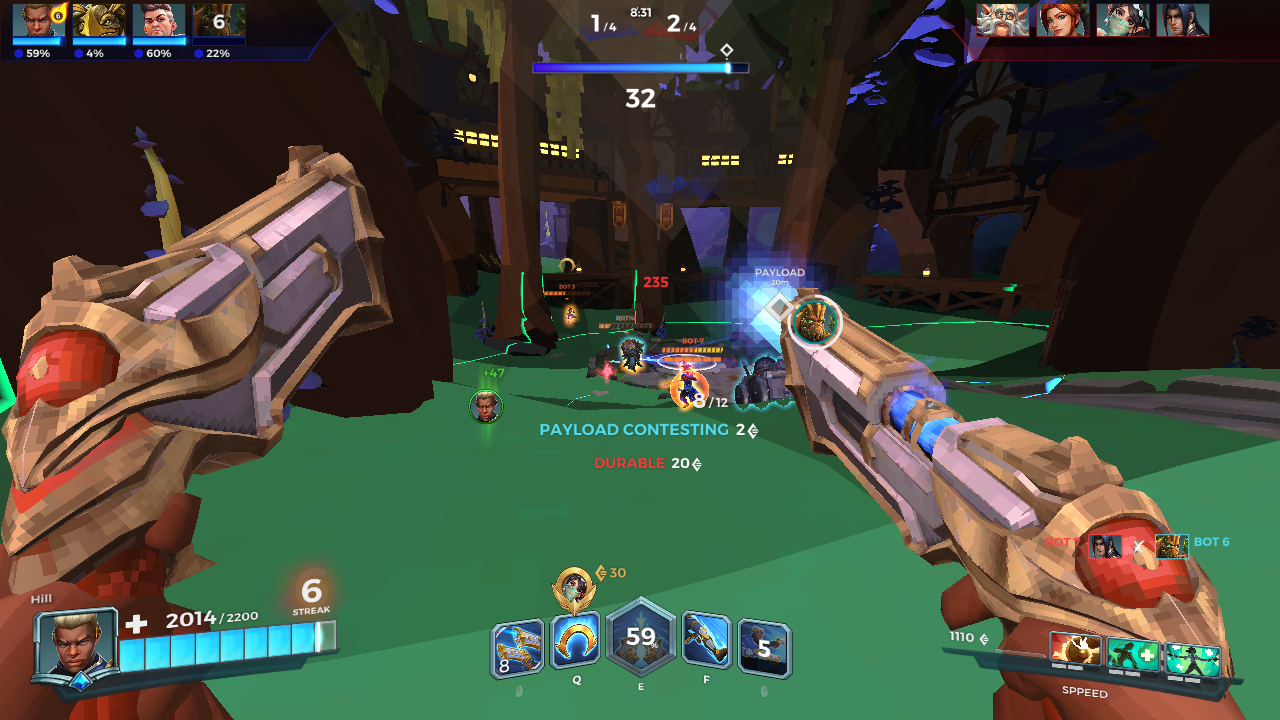model: (678, 365, 698, 413), (624, 338, 643, 371), (565, 303, 579, 328)
